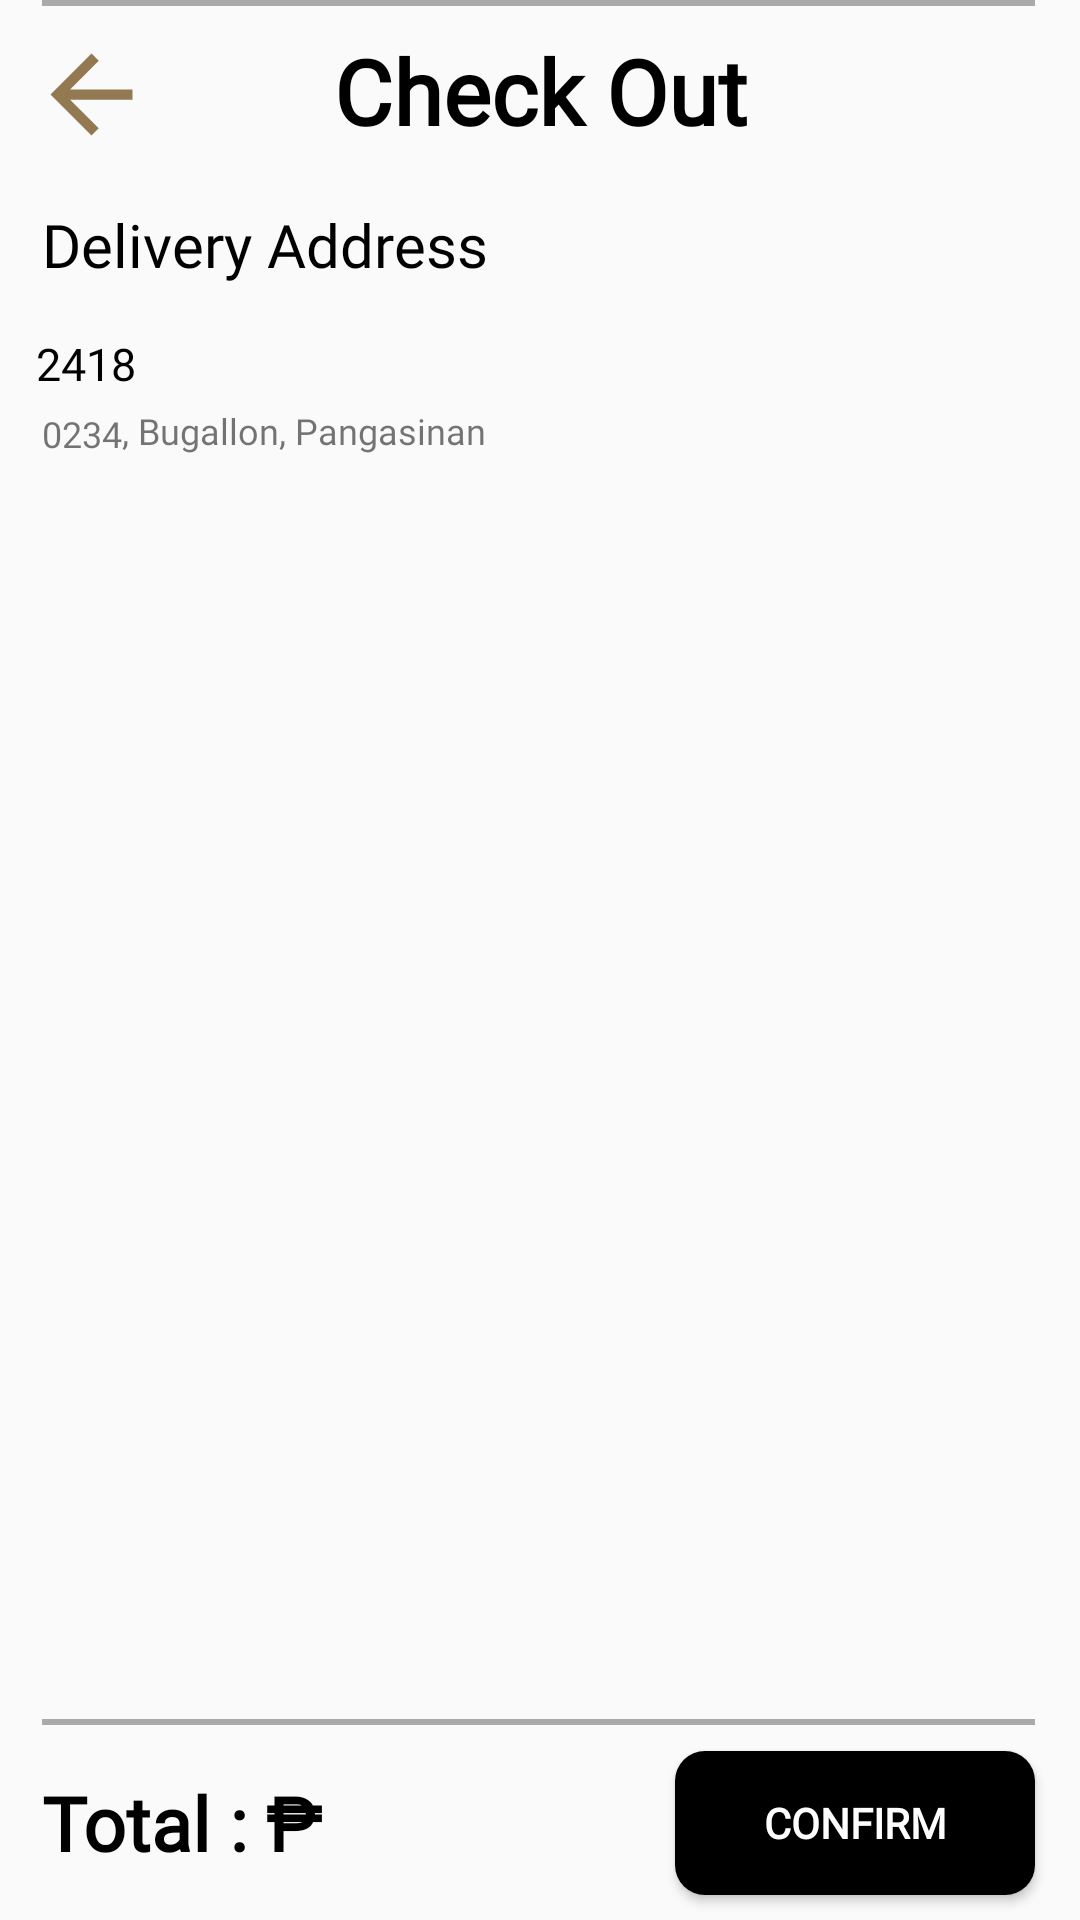

Icons on this 1080w x 1920h Android screen, each with its box as (x1=x1, y1=y1, x2=x2, y2=y2):
back: (x1=50, y1=53, x2=133, y2=136)
